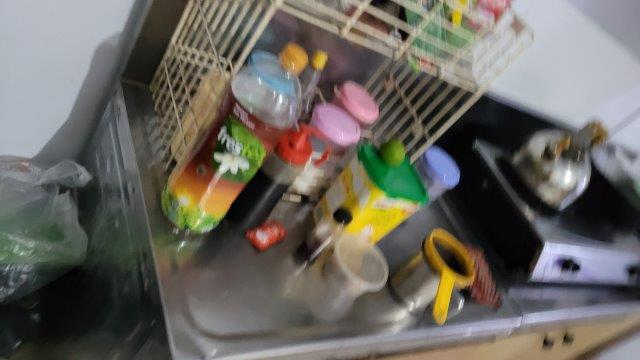botolplastik: (162, 42, 309, 238)
